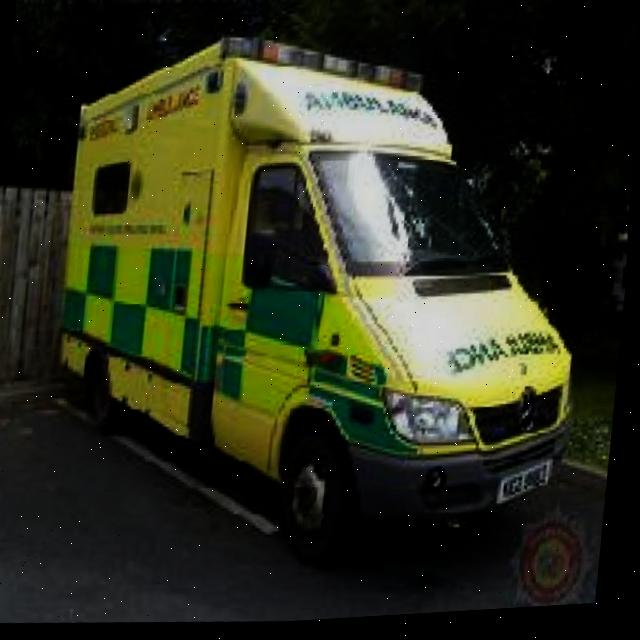emergency: (39, 14, 616, 588)
